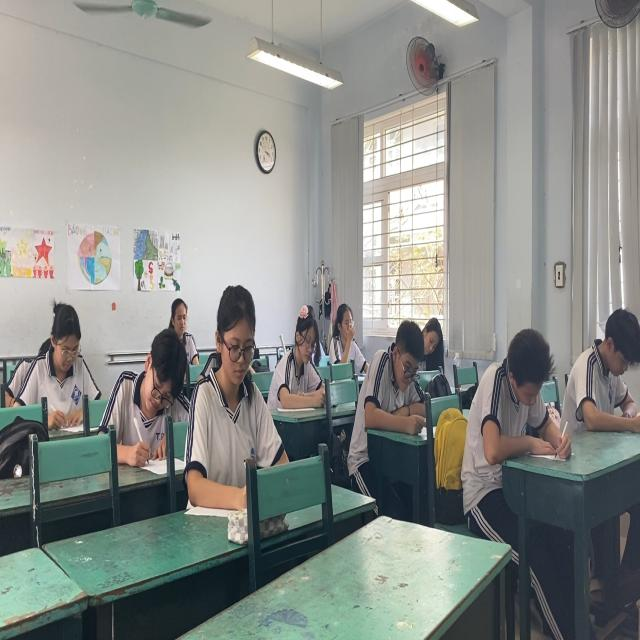not_cheating: (190, 274, 288, 496), (111, 327, 197, 471), (473, 320, 552, 468), (19, 288, 105, 423), (552, 305, 640, 415), (364, 316, 434, 450), (278, 306, 323, 402), (160, 286, 206, 364), (329, 300, 368, 378), (418, 302, 446, 361)
